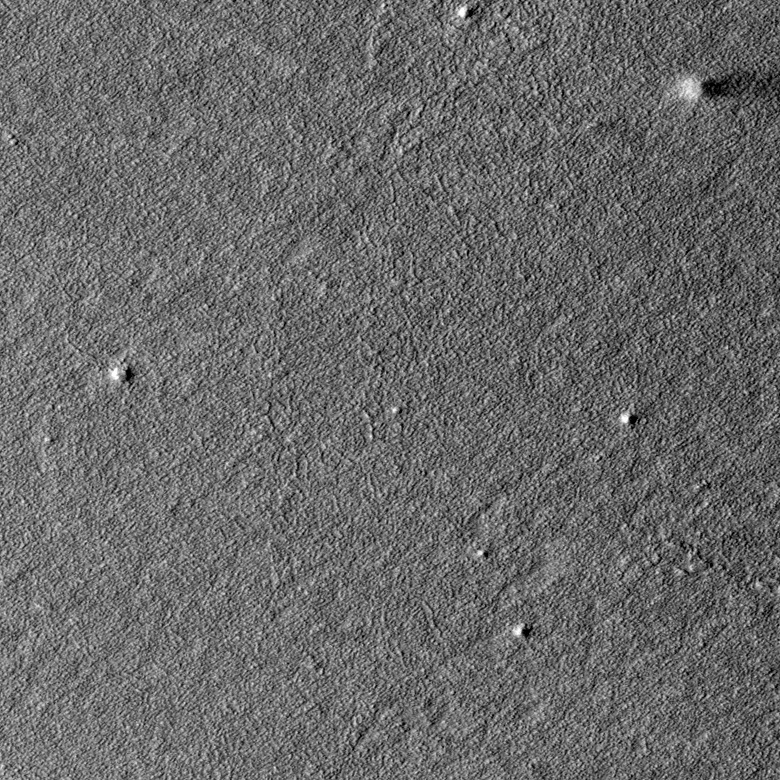dust_devil: (677, 68, 780, 103)
